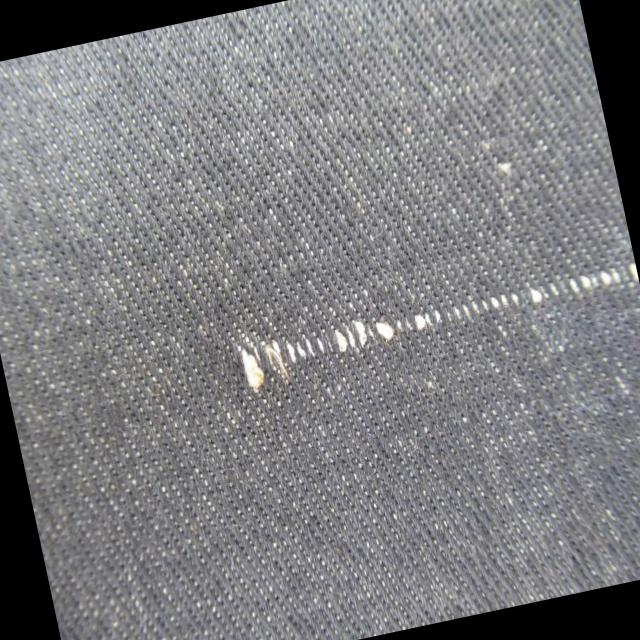Warp_Weft: (230, 252, 640, 395)
